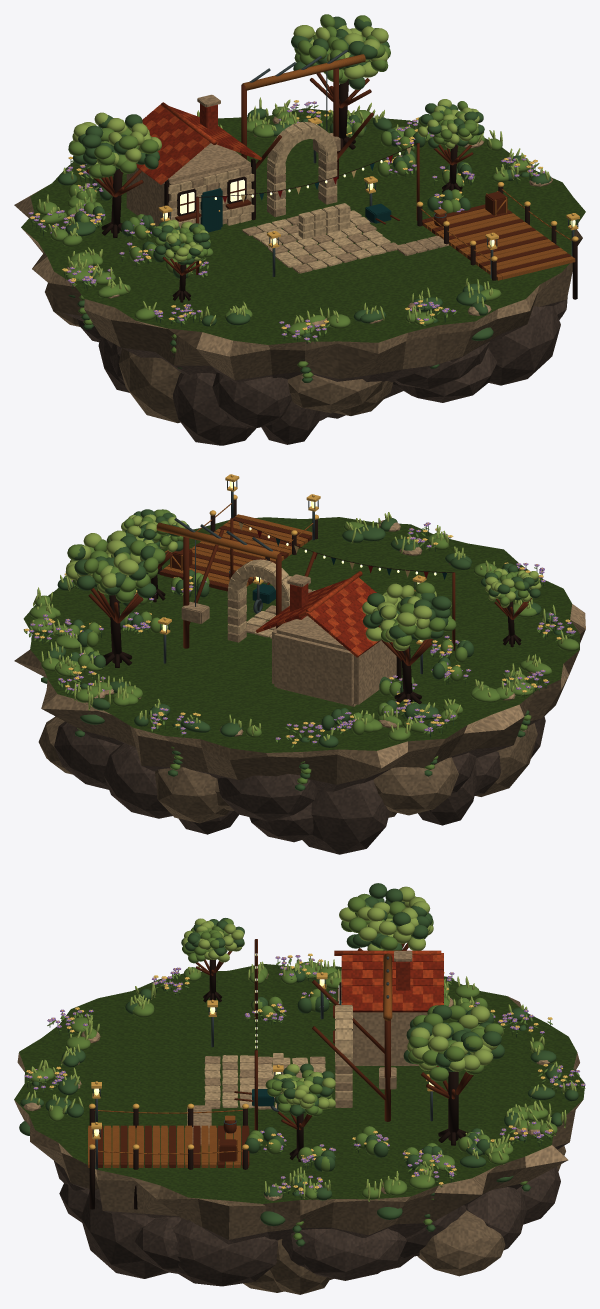
File: masonry.glb
3 views of the same model, one above another, from view 1: azimuth 30°, elevation 25°; view 2: azimuth 150°, elevation 25°; view 3: azimuth 270°, elevation 25° (orthographic). The views are drawn at different scales.
Visible parts, largest first — view 1: GEO-masonry-grass.001, GEO-masonry-rockLight.001, GEO-masonry-rock.001, GEO-masonry-leaf.001, GEO-masonry-stone.001, GEO-masonry-leafDark.001, GEO-masonry-stoneLight.001, GEO-masonry-leafLight.001, GEO-masonry-wood.001, GEO-masonry-oak.001, GEO-masonry-darkwood.001, GEO-masonry-tile.001 (+7 smaller); view 2: GEO-masonry-grass.001, GEO-masonry-rock.001, GEO-masonry-rockLight.001, GEO-masonry-stone.001, GEO-masonry-leaf.001, GEO-masonry-leafDark.001, GEO-masonry-leafLight.001, GEO-masonry-wood.001, GEO-masonry-oak.001, GEO-masonry-tile.001, GEO-masonry-darkwood.001, GEO-masonry-purple.001 (+5 smaller); view 3: GEO-masonry-grass.001, GEO-masonry-rock.001, GEO-masonry-rockLight.001, GEO-masonry-leaf.001, GEO-masonry-leafDark.001, GEO-masonry-leafLight.001, GEO-masonry-stone.001, GEO-masonry-wood.001, GEO-masonry-oak.001, GEO-masonry-stoneLight.001, GEO-masonry-tile.001, GEO-masonry-darkwood.001 (+5 smaller).
Part boxes in pixels (bbox=[...]): GEO-masonry-grass.001: bbox=[21, 108, 585, 344]; GEO-masonry-rockLight.001: bbox=[32, 238, 582, 423]; GEO-masonry-rock.001: bbox=[61, 297, 567, 445]; GEO-masonry-leaf.001: bbox=[32, 14, 542, 378]; GEO-masonry-stone.001: bbox=[14, 94, 582, 356]; GEO-masonry-leafDark.001: bbox=[30, 16, 551, 382]; GEO-masonry-stoneLight.001: bbox=[168, 121, 390, 269]; GEO-masonry-leafLight.001: bbox=[38, 25, 549, 325]; GEO-masonry-wood.001: bbox=[86, 68, 570, 275]; GEO-masonry-oak.001: bbox=[242, 54, 575, 280]; GEO-masonry-darkwood.001: bbox=[101, 79, 577, 302]; GEO-masonry-tile.001: bbox=[136, 106, 256, 180]; GEO-masonry-grass.001: bbox=[23, 517, 580, 752]; GEO-masonry-rock.001: bbox=[54, 716, 545, 854]; GEO-masonry-rockLight.001: bbox=[15, 630, 585, 823]; GEO-masonry-stone.001: bbox=[14, 520, 585, 768]; GEO-masonry-leaf.001: bbox=[23, 509, 579, 784]; GEO-masonry-leafDark.001: bbox=[26, 509, 573, 791]; GEO-masonry-leafLight.001: bbox=[31, 512, 567, 741]; GEO-masonry-wood.001: bbox=[88, 517, 531, 665]; GEO-masonry-oak.001: bbox=[156, 503, 313, 586]; GEO-masonry-tile.001: bbox=[261, 579, 380, 653]; GEO-masonry-darkwood.001: bbox=[103, 499, 521, 704]; GEO-masonry-purple.001: bbox=[29, 522, 576, 743]; GEO-masonry-grass.001: bbox=[14, 964, 584, 1203]; GEO-masonry-rock.001: bbox=[54, 1142, 568, 1286]; GEO-masonry-rockLight.001: bbox=[19, 1065, 578, 1294]; GEO-masonry-leaf.001: bbox=[25, 893, 585, 1239]; GEO-masonry-leafDark.001: bbox=[19, 883, 583, 1246]; GEO-masonry-leafLight.001: bbox=[25, 886, 576, 1201]; GEO-masonry-stone.001: bbox=[14, 951, 582, 1215]; GEO-masonry-wood.001: bbox=[98, 939, 473, 1167]; GEO-masonry-oak.001: bbox=[88, 953, 392, 1167]; GEO-masonry-stoneLight.001: bbox=[204, 970, 352, 1108]; GEO-masonry-tile.001: bbox=[341, 955, 443, 1012]; GEO-masonry-darkwood.001: bbox=[89, 939, 467, 1209].
Size of the model in its own units: 26.12 by 15.56 by 26.13.
22 materials, 14 textured.
